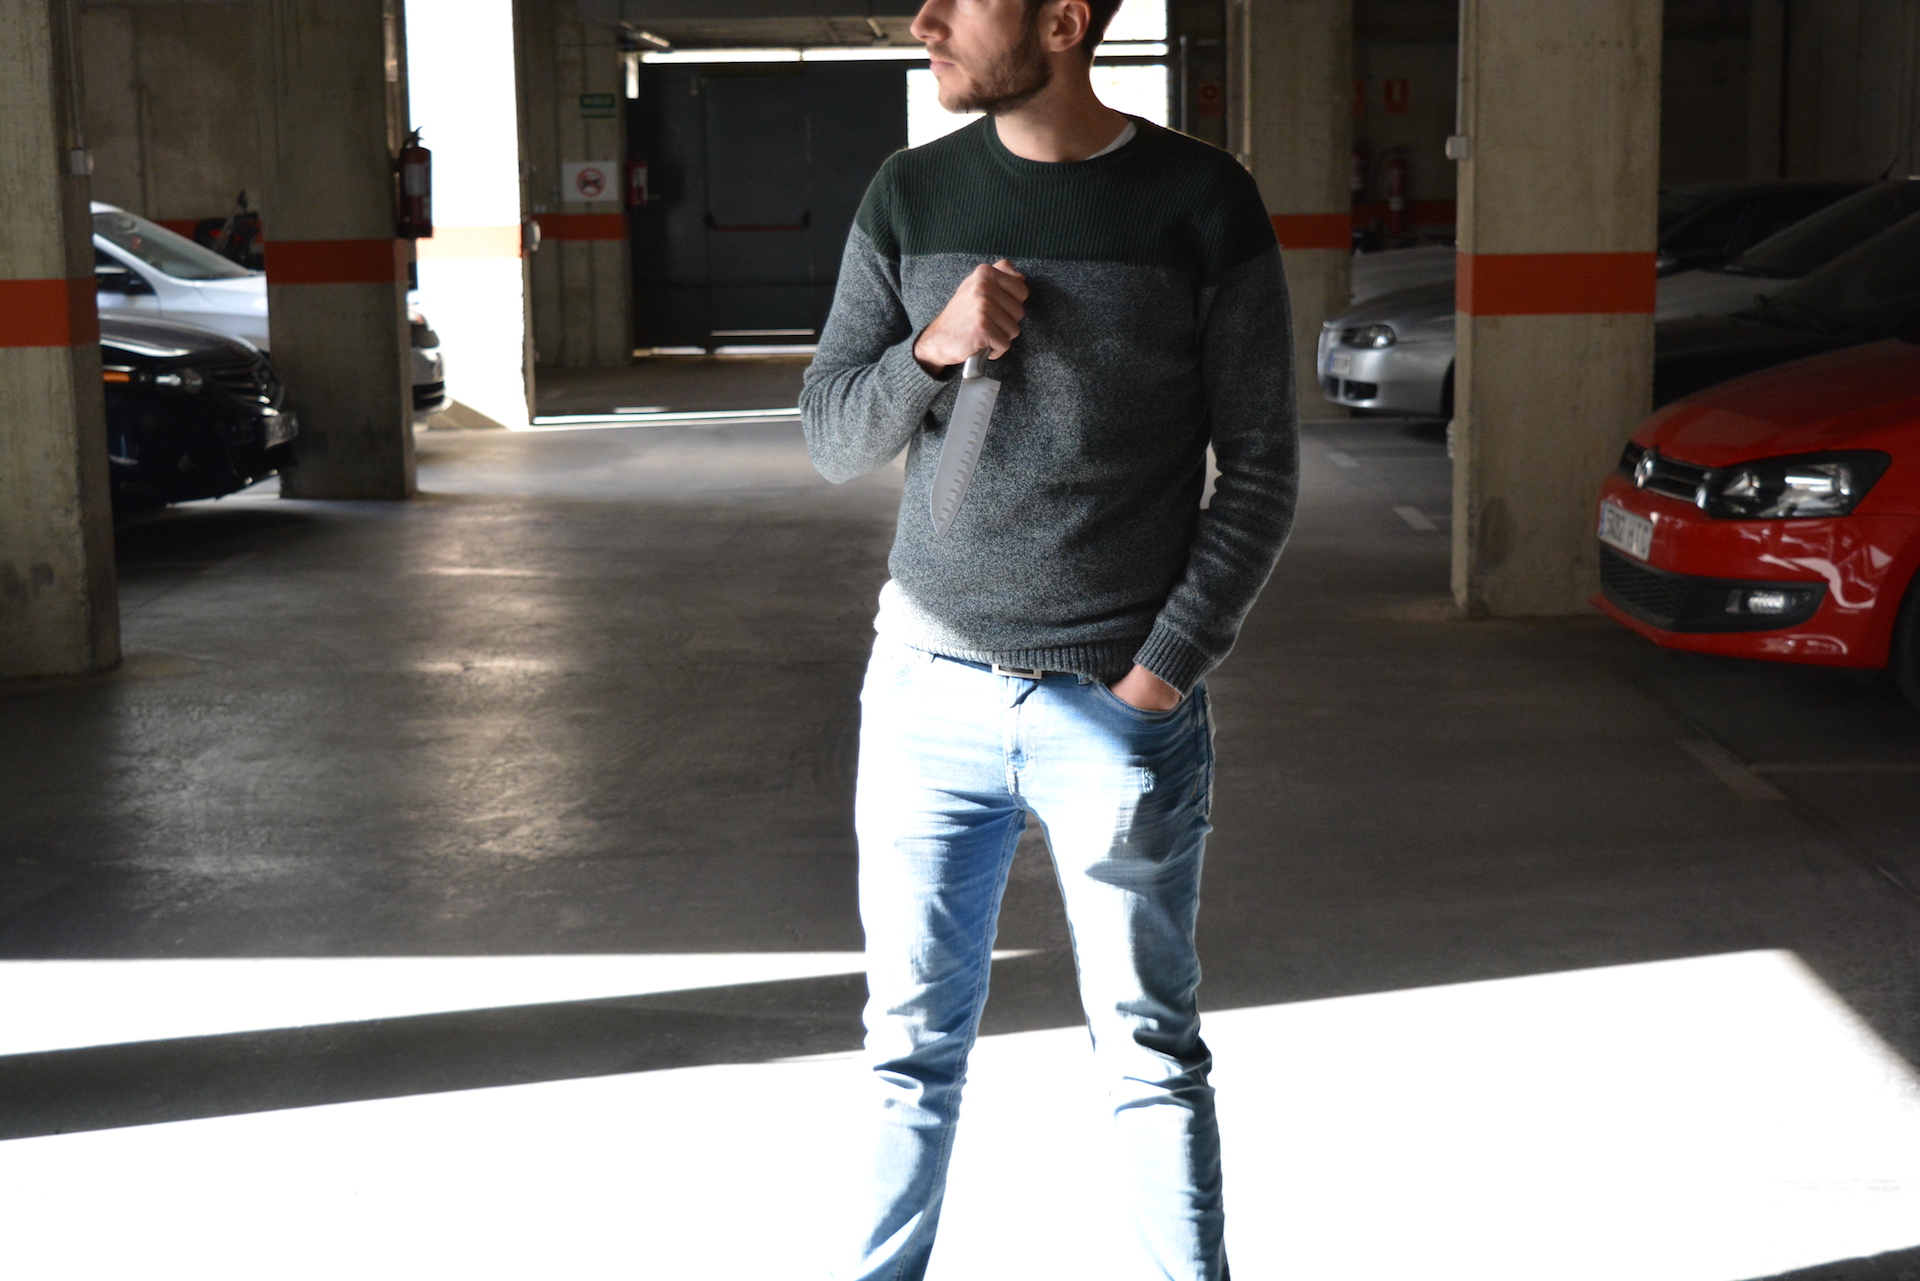knife: (919, 342, 1008, 549)
